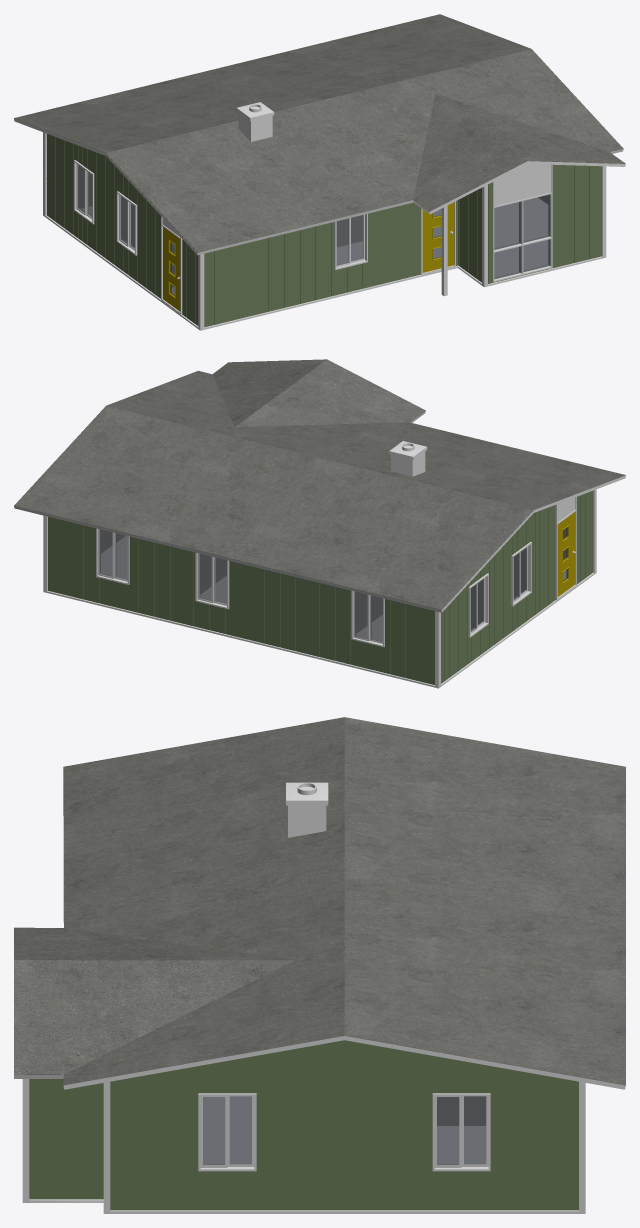
Rendered from house_cottage.glb.
3 renders of one model, top to bottom at view 1: azimuth 30°, elevation 25°; view 2: azimuth 150°, elevation 25°; view 3: azimuth 270°, elevation 25°, orthographic. The views are drawn at different scales.
Bounding box in the file's own units: 11.11 × 3.63 × 9.03.
6 materials, 1 textured.
